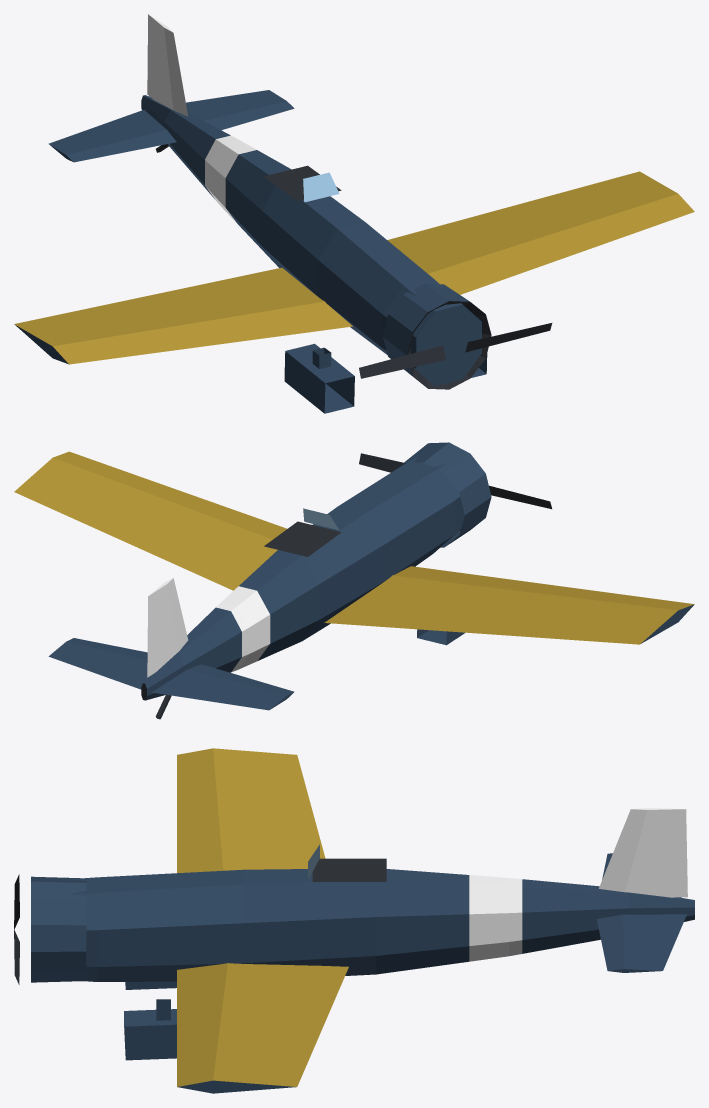
The picture shows the model from 3 angles, top to bottom: view 1: azimuth 30°, elevation 25°; view 2: azimuth 150°, elevation 25°; view 3: azimuth 270°, elevation 25°; orthographic projection. The views are drawn at different scales.
Parts seen in each view (by area): view 1: body, prop; view 2: body, prop; view 3: body, prop.
Part boxes in pixels (<box>): body: <box>14,14,694,413</box>; prop: <box>359,323,552,378</box>; body: <box>14,442,694,719</box>; prop: <box>359,453,551,509</box>; body: <box>31,748,694,1093</box>; prop: <box>14,874,19,984</box>.
Size of the model in its own units: 8.5 by 2.48 by 7.36.
